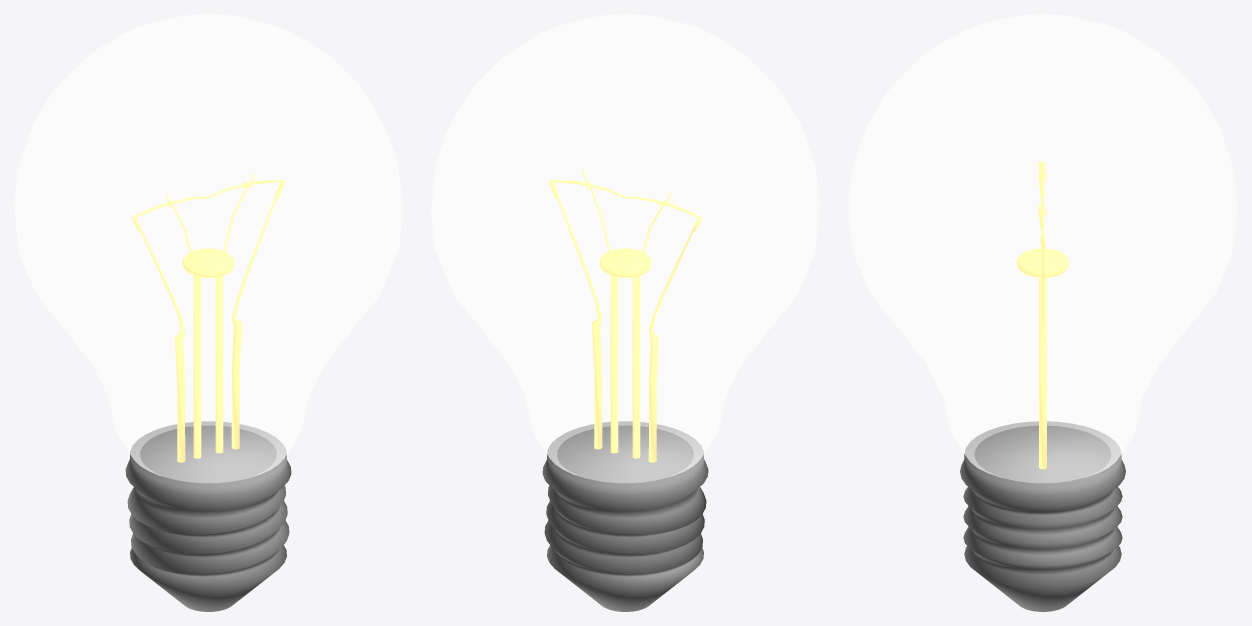
Rendered from Hat_Lightbulb.fbx.
3 views of the same model, side by side, from view 1: azimuth 30°, elevation 25°; view 2: azimuth 150°, elevation 25°; view 3: azimuth 270°, elevation 25° (orthographic).
Visible parts, largest first — view 1: Lightbulb; view 2: Lightbulb; view 3: Lightbulb.
Boxes of the visible parts, x1,y1,x2,y2 form: Lightbulb: [14, 14, 402, 611]; Lightbulb: [431, 14, 819, 611]; Lightbulb: [848, 14, 1237, 611].
Size of the model in its own units: 98.98 by 159 by 98.98.
